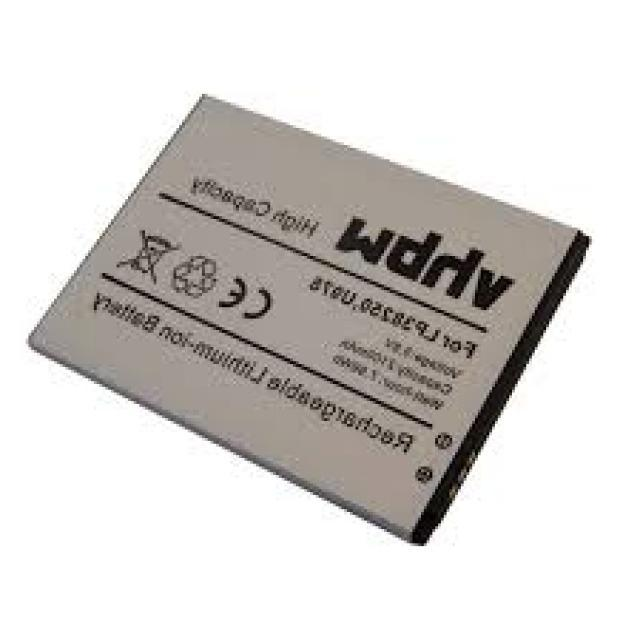battery: (26, 90, 590, 548)
